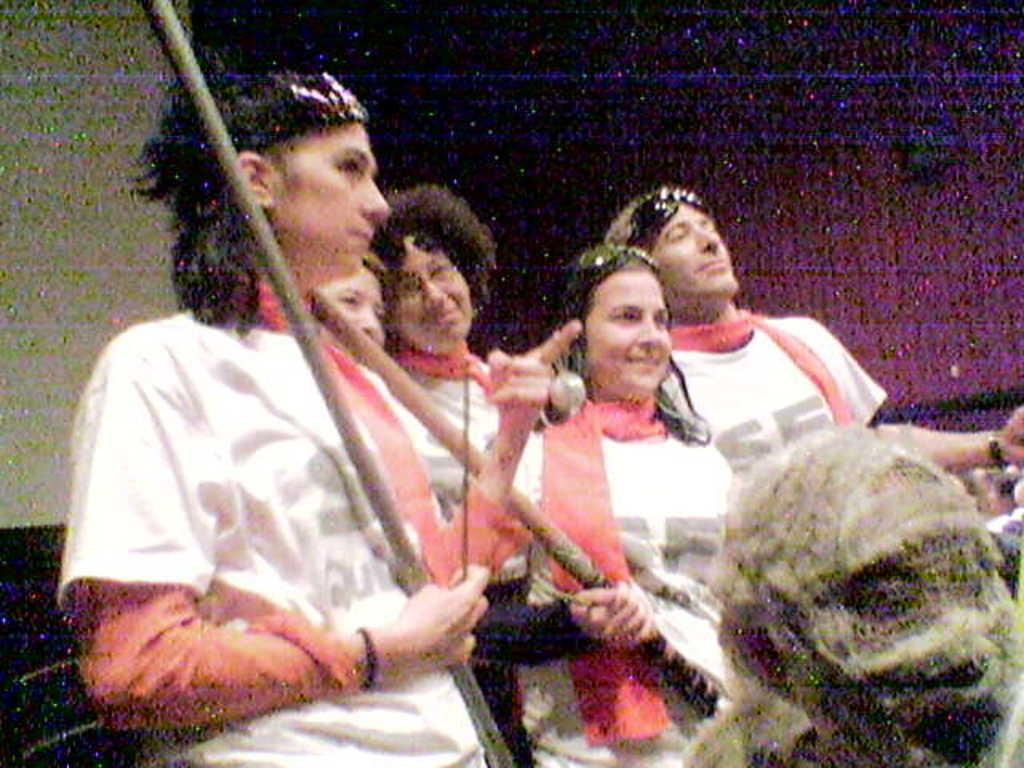Sem Máscara: (265, 115, 382, 266), (578, 265, 674, 395), (643, 197, 742, 293), (388, 230, 470, 341), (312, 264, 382, 350)
